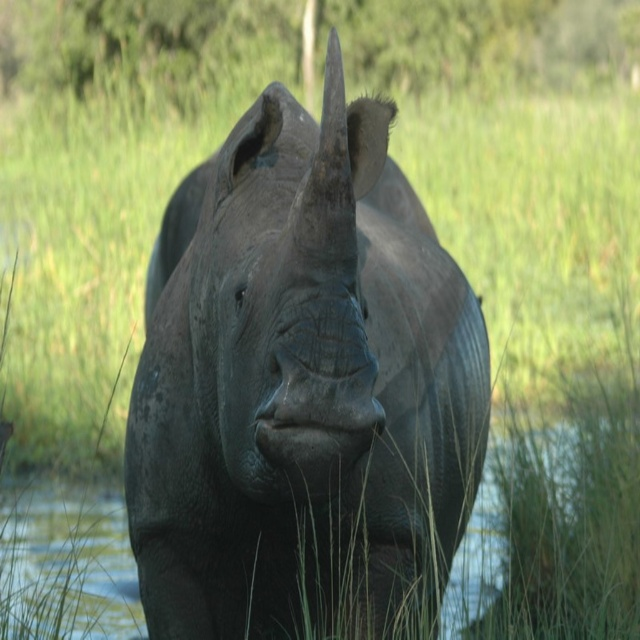Rhinoceros: (124, 26, 491, 640)
